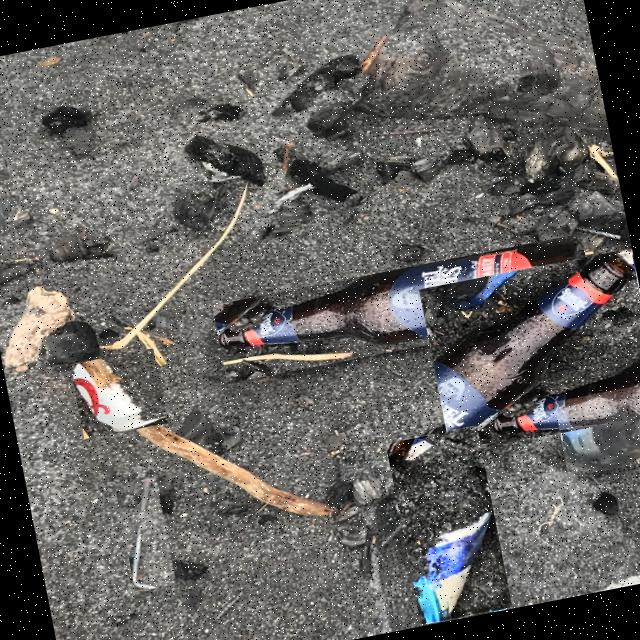Drink can: (73, 363, 166, 432)
Glass bottle: (435, 253, 637, 453), (220, 241, 592, 349), (561, 391, 640, 470)
Scrap metal: (134, 478, 160, 589)
Unlabeled litter: (405, 438, 493, 623)
